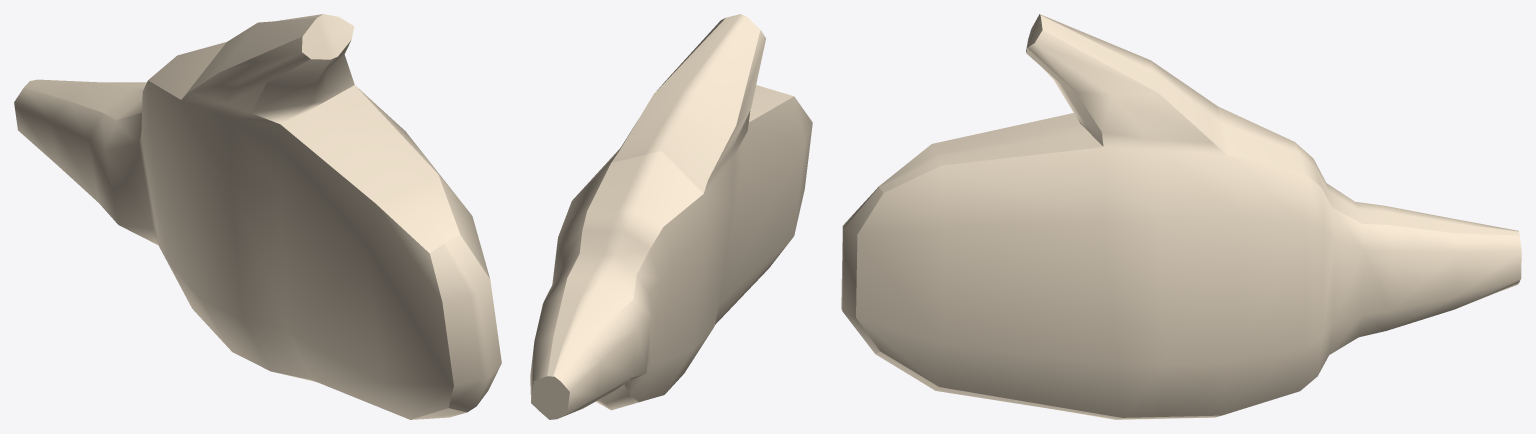
File: left.fbx
3 renders of one model, left to right at view 1: azimuth 30°, elevation 25°; view 2: azimuth 150°, elevation 25°; view 3: azimuth 270°, elevation 25°, orthographic. The views are drawn at different scales.
Parts seen in each view (by area): view 1: Hand_L2; view 2: Hand_L2; view 3: Hand_L2.
Boxes of the visible parts, box(x1,y1,x2,y2) form: Hand_L2: box(14, 14, 501, 419); Hand_L2: box(530, 14, 812, 419); Hand_L2: box(841, 14, 1521, 419).
Bounding box in the file's own units: 13.21 × 28.53 × 45.96.
Materials: 1 (1 with a texture image).
